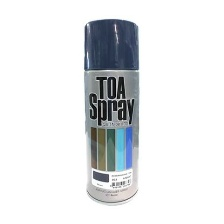aerosol_cans: (75, 11, 145, 211)
